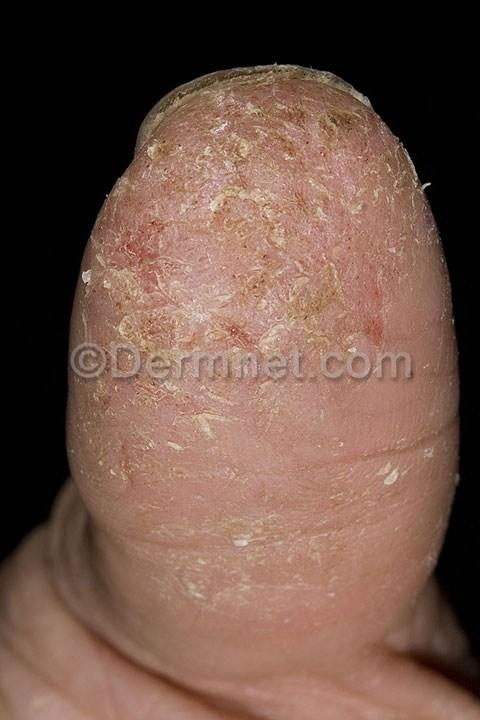Eczema: (261, 202, 454, 414), (76, 249, 260, 466), (262, 97, 392, 216), (163, 127, 277, 236), (99, 121, 177, 269)
